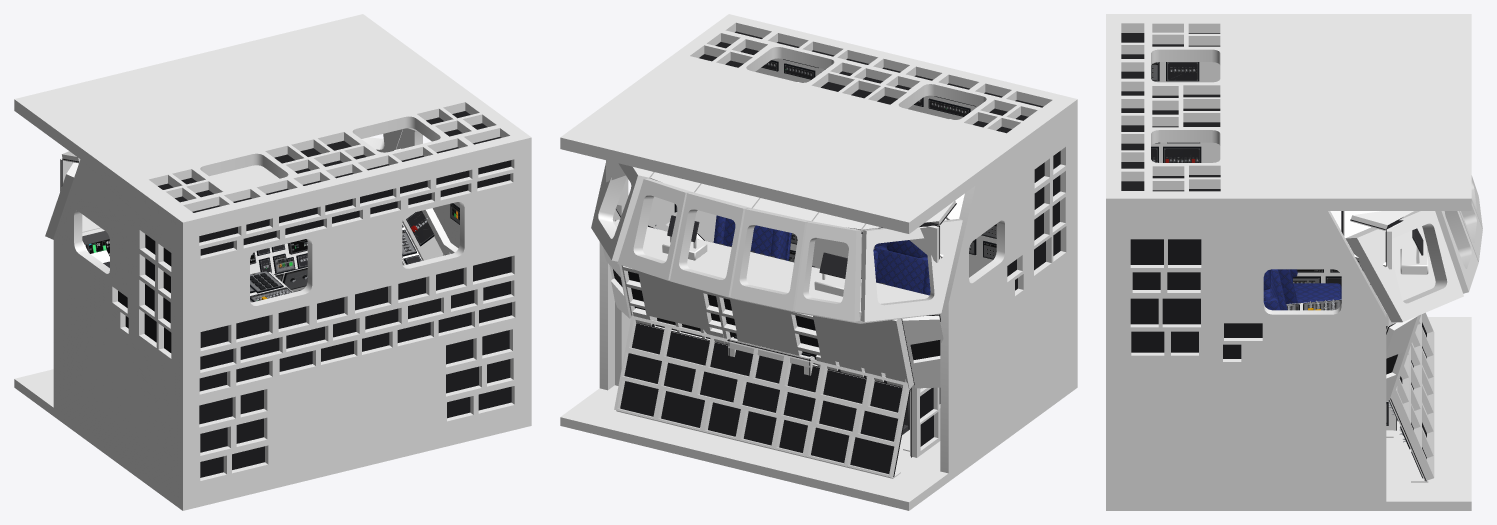
The model's file is flightdeck.glb.
3 views of the same model, side by side, from view 1: azimuth 30°, elevation 25°; view 2: azimuth 150°, elevation 25°; view 3: azimuth 270°, elevation 25° (orthographic). The views are drawn at different scales.
Visible parts, largest first — view 1: aft, ceiling, wall_L, floor, panel, consoleR, shield, windows, wall_R, consoleC, consoleR_outer; view 2: ceiling, panel, wall_L, windows, floor, shield, aft, seatBacks, canopy, wall_R, consoleL, consoleR_outer (+1 smaller); view 3: wall_R, ceiling, floor, windows, panel, aft, wall_L, shield, canopy, seatBacks, seats, consoleC (+1 smaller).
Boxes of the visible parts, x1,y1,x2,y2 form: aft: (178,140,531,501); ceiling: (14,14,531,230); wall_L: (53,159,177,498); floor: (14,369,531,510); panel: (85,239,307,292); consoleR: (402,210,450,265); shield: (82,165,279,244); windows: (45,129,402,239); wall_R: (396,128,459,248); consoleC: (250,271,292,302); consoleR_outer: (394,148,458,260); ceiling: (560,14,1077,233); panel: (602,246,943,477); wall_L: (940,114,1072,473); windows: (591,163,962,321); floor: (560,379,1077,510); shield: (613,215,939,323); aft: (755,58,1077,381); seatBacks: (713,215,930,295); canopy: (606,160,964,262); wall_R: (599,177,716,390); consoleL: (910,314,940,457); consoleR_outer: (615,205,669,385); wall_R: (1116,211,1386,501); ceiling: (1106,14,1471,210); floor: (1106,317,1471,510); windows: (1345,175,1482,322); panel: (1386,312,1434,481); aft: (1106,201,1116,501); wall_L: (1151,62,1376,294); shield: (1376,226,1435,325); canopy: (1330,211,1413,269); seatBacks: (1263,269,1297,310); seats: (1293,283,1341,303); consoleC: (1286,299,1396,430).
Size of what is drawn, in the model's own units: 2.53 by 1.99 by 2.18.
Materials: 55 (15 with a texture image).
